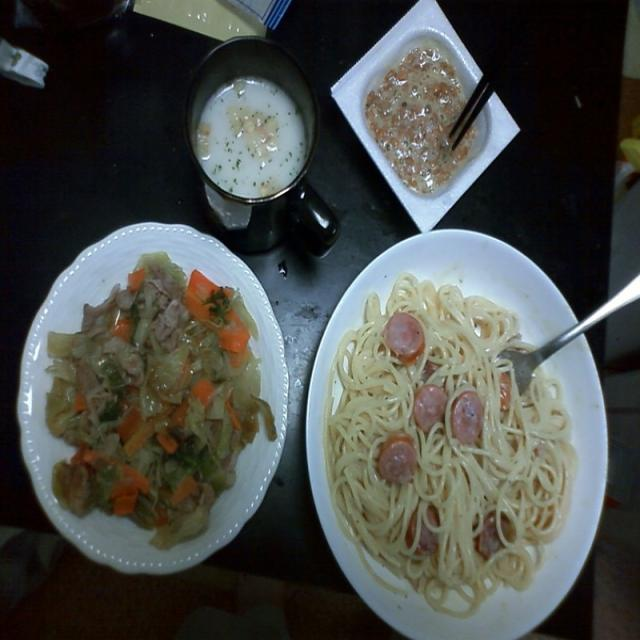Pasta: (320, 280, 578, 616)
